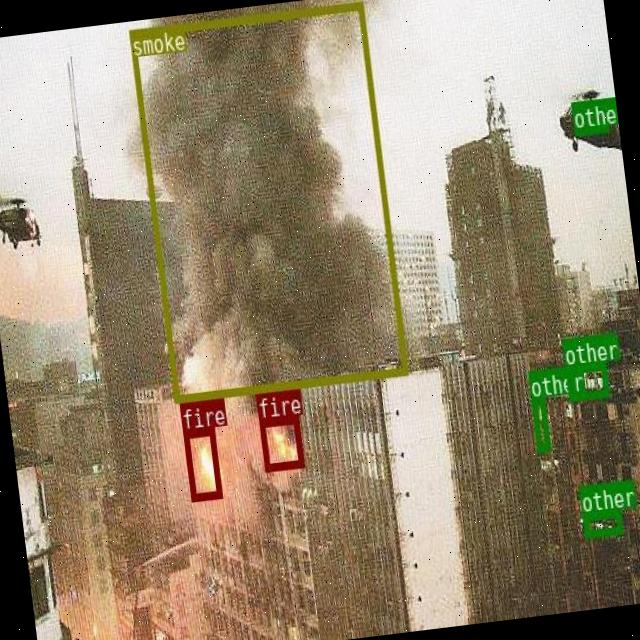fire: (182, 427, 220, 501), (258, 414, 304, 470)
smoke: (128, 0, 407, 401)
